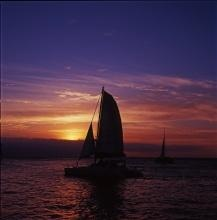fanchuan: (61, 87, 136, 180)
